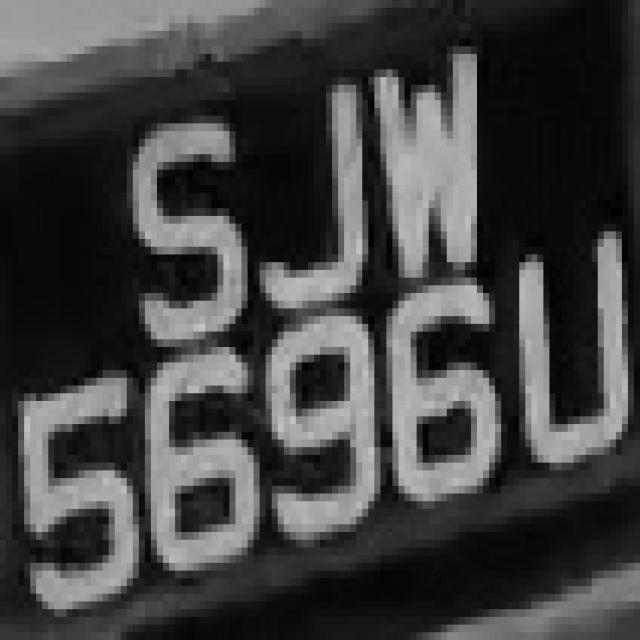5: (18, 370, 144, 619), (0, 4, 1, 8)
6: (368, 255, 507, 524), (145, 339, 266, 594)
9: (254, 308, 386, 578)
J: (230, 77, 380, 347)
S: (120, 77, 248, 370)
U: (507, 224, 628, 486)
W: (362, 31, 495, 285)
